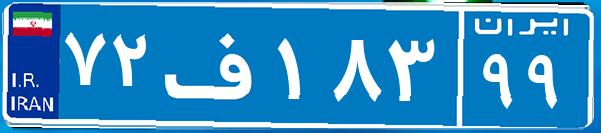1: (273, 28, 330, 110)
2: (110, 28, 158, 105)
3: (385, 28, 445, 110)
7: (57, 26, 110, 107)
8: (330, 28, 385, 110)
9: (475, 38, 525, 113), (525, 38, 570, 115)
ف: (158, 15, 273, 115)
